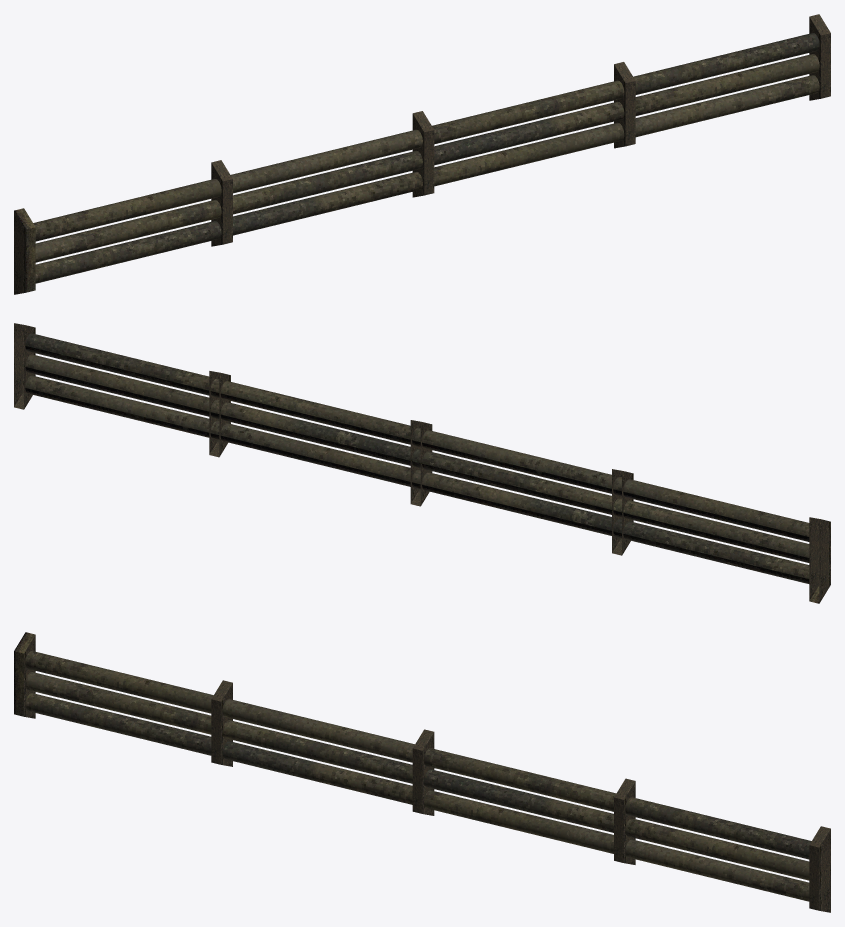
File: pipes_hr_1_horizontal_middle_2.glb
3 renders of one model, top to bottom at view 1: azimuth 30°, elevation 25°; view 2: azimuth 150°, elevation 25°; view 3: azimuth 330°, elevation 25°, orthographic.
Parts seen in each view (by area): view 1: pipes_hr_1_horizontal_middle_2; view 2: pipes_hr_1_horizontal_middle_2; view 3: pipes_hr_1_horizontal_middle_2.
Boxes of the visible parts, box(x1,y1,x2,y2) form: pipes_hr_1_horizontal_middle_2: box(14, 14, 830, 294); pipes_hr_1_horizontal_middle_2: box(14, 323, 830, 603); pipes_hr_1_horizontal_middle_2: box(14, 632, 830, 912).
Bounding box in the file's own units: 4 × 0.4 × 0.1.
1 material, 1 textured.
